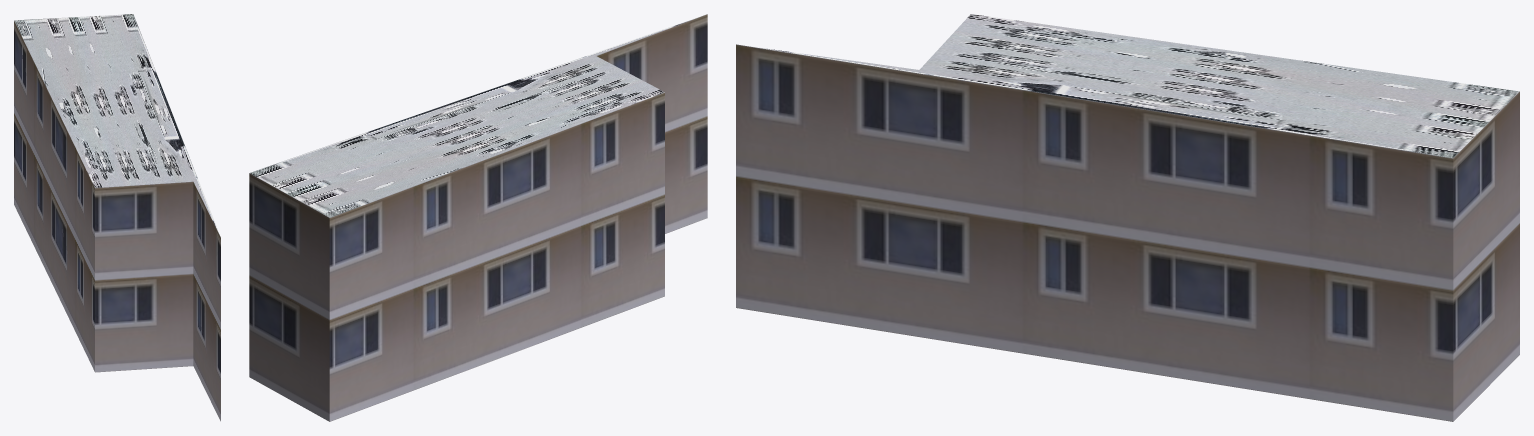
File: ResTex__521.fbx
3 renders of one model, left to right at view 1: azimuth 30°, elevation 25°; view 2: azimuth 150°, elevation 25°; view 3: azimuth 270°, elevation 25°, orthographic. The views are drawn at different scales.
Visible parts, largest first — view 1: CityEngineMaterial_21_m, CityEngineMaterial_4_m; view 2: CityEngineMaterial_21_m, CityEngineMaterial_4_m; view 3: CityEngineMaterial_21_m, CityEngineMaterial_4_m.
Part boxes in pixels (x1,y1,x2,y2): CityEngineMaterial_21_m: [14, 21, 220, 421]; CityEngineMaterial_4_m: [14, 14, 219, 234]; CityEngineMaterial_21_m: [249, 14, 707, 421]; CityEngineMaterial_4_m: [249, 15, 702, 217]; CityEngineMaterial_21_m: [736, 44, 1519, 421]; CityEngineMaterial_4_m: [743, 14, 1519, 158].
Size of the model in its own units: 7.05 by 6 by 16.17.
2 materials, 2 textured.
